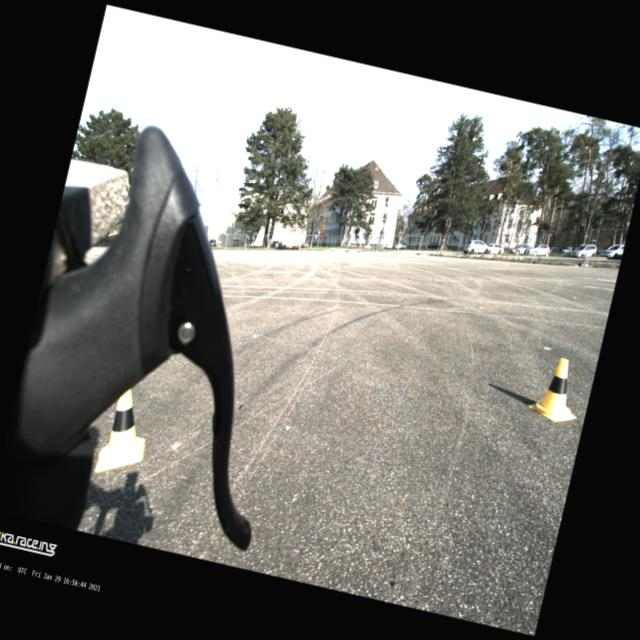yellow_cone: (95, 385, 156, 481), (526, 353, 588, 426)
